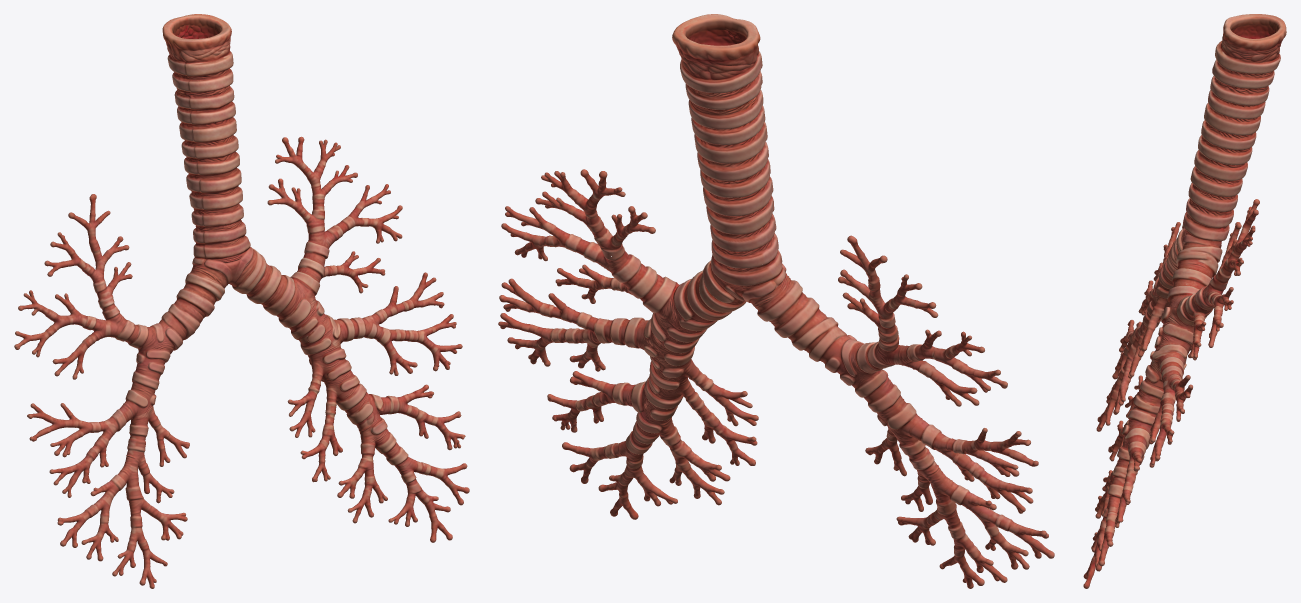
3 views of the same model, side by side, from view 1: azimuth 30°, elevation 25°; view 2: azimuth 150°, elevation 25°; view 3: azimuth 270°, elevation 25° (orthographic). The views are drawn at different scales.
Visible parts, largest first — view 1: tripo_node_97087294-c63d-423c-b1eb-720b7fa6cc12; view 2: tripo_node_97087294-c63d-423c-b1eb-720b7fa6cc12; view 3: tripo_node_97087294-c63d-423c-b1eb-720b7fa6cc12.
Part boxes in pixels (x1,y1,x2,y2): tripo_node_97087294-c63d-423c-b1eb-720b7fa6cc12: (14, 14, 469, 588); tripo_node_97087294-c63d-423c-b1eb-720b7fa6cc12: (498, 14, 1054, 588); tripo_node_97087294-c63d-423c-b1eb-720b7fa6cc12: (1083, 14, 1286, 588).
Bounding box in the file's own units: 0.8956 × 0.9809 × 0.3739.
Materials: 1 (1 with a texture image).
